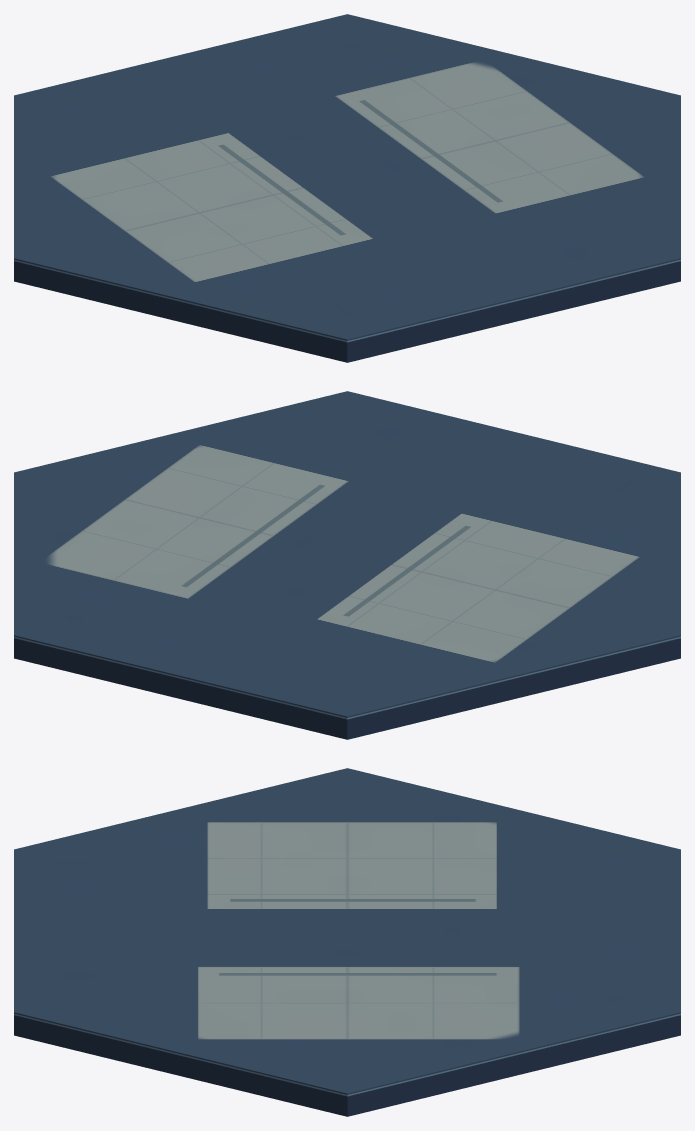
Rendered from campus_tile_utility_v01.glb.
The picture shows the model from 3 angles, top to bottom: view 1: azimuth 30°, elevation 25°; view 2: azimuth 150°, elevation 25°; view 3: azimuth 270°, elevation 25°; orthographic projection.
Visible parts, largest first — view 1: campus_tile_utility; view 2: campus_tile_utility; view 3: campus_tile_utility.
Part boxes in pixels (box(x1,y1,x2,y2)): campus_tile_utility: box(14, 14, 680, 362); campus_tile_utility: box(14, 391, 680, 739); campus_tile_utility: box(14, 768, 680, 1116).
Size of the model in its own units: 36 by 1.2 by 31.18.
Materials: 1 (1 with a texture image).
